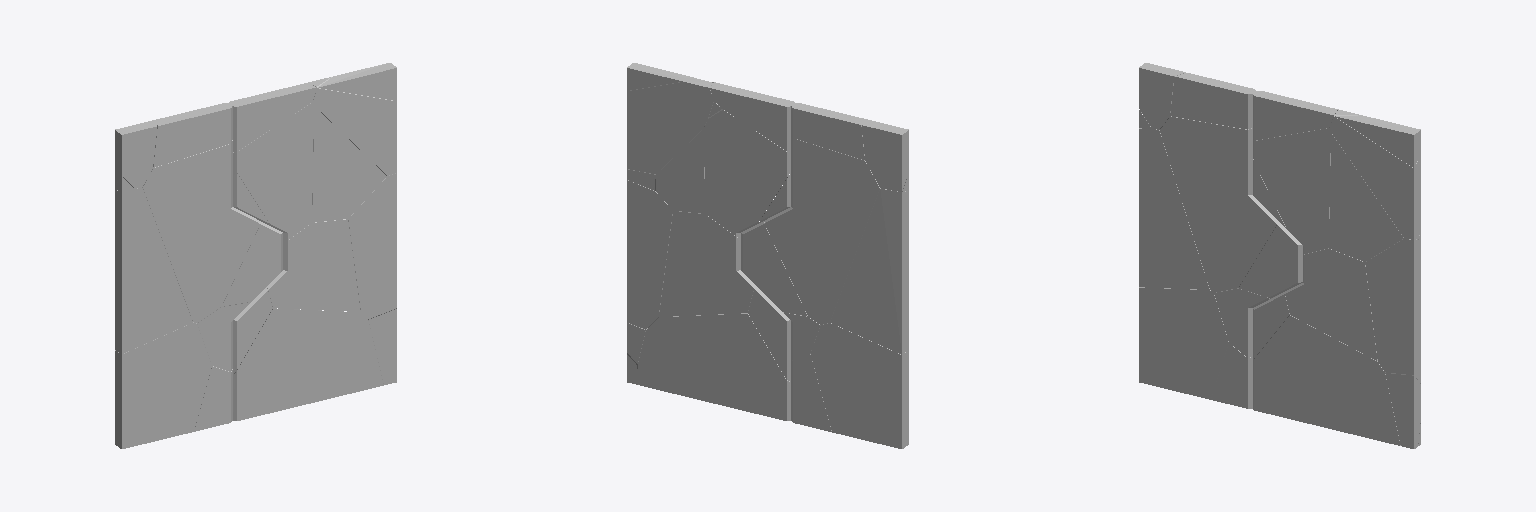
The model's file is BrokenDoor.obj.
The picture shows the model from 3 angles: view 1: azimuth 30°, elevation 25°; view 2: azimuth 150°, elevation 25°; view 3: azimuth 330°, elevation 25°; orthographic projection.
Parts seen in each view (by area): view 1: Door_Right_Teal_cell.004, DoorLeft_Teal_cell, DoorLeft_Teal_cell.008, DoorLeft_Teal_cell.004, Door_Right_Teal_cell.005, Door_Right_Teal_cell.009, Door_Right_Teal_cell, Door_Right_Teal_cell.001, Door_Right_Teal_cell.008, DoorLeft_Teal_cell.001, Door_Right_Teal_cell.007, DoorLeft_Teal_cell.005 (+7 smaller); view 2: DoorLeft_Teal_cell, Door_Right_Teal_cell.004, DoorLeft_Teal_cell.008, DoorLeft_Teal_cell.004, Door_Right_Teal_cell.005, Door_Right_Teal_cell.009, Door_Right_Teal_cell.008, Door_Right_Teal_cell, DoorLeft_Teal_cell.005, Door_Right_Teal_cell.007, DoorLeft_Teal_cell.001, Door_Right_Teal_cell.001 (+7 smaller); view 3: DoorLeft_Teal_cell, Door_Right_Teal_cell.004, DoorLeft_Teal_cell.008, DoorLeft_Teal_cell.004, Door_Right_Teal_cell.005, Door_Right_Teal_cell.009, Door_Right_Teal_cell, Door_Right_Teal_cell.001, Door_Right_Teal_cell.008, DoorLeft_Teal_cell.001, DoorLeft_Teal_cell.005, Door_Right_Teal_cell.007 (+7 smaller).
Part boxes in pixels (x1,y1,x2,y2): Door_Right_Teal_cell.004: (233, 308, 383, 420); DoorLeft_Teal_cell: (142, 140, 259, 322); DoorLeft_Teal_cell.008: (115, 322, 211, 448); DoorLeft_Teal_cell.004: (115, 188, 192, 353); Door_Right_Teal_cell.005: (233, 102, 313, 240); Door_Right_Teal_cell.009: (267, 219, 360, 311); Door_Right_Teal_cell: (348, 173, 396, 319); Door_Right_Teal_cell.001: (312, 106, 386, 222); Door_Right_Teal_cell.008: (308, 77, 396, 175); DoorLeft_Teal_cell.001: (153, 103, 232, 167); Door_Right_Teal_cell.007: (229, 83, 316, 151); DoorLeft_Teal_cell.005: (222, 221, 282, 306); DoorLeft_Teal_cell: (764, 137, 879, 324); Door_Right_Teal_cell.004: (638, 313, 790, 420); DoorLeft_Teal_cell.008: (811, 323, 908, 448); DoorLeft_Teal_cell.004: (830, 188, 908, 354); Door_Right_Teal_cell.005: (704, 103, 790, 238); Door_Right_Teal_cell.009: (659, 211, 755, 316); Door_Right_Teal_cell.008: (627, 82, 713, 174); Door_Right_Teal_cell: (627, 180, 672, 329); DoorLeft_Teal_cell.005: (741, 221, 807, 316); Door_Right_Teal_cell.007: (710, 82, 794, 151); DoorLeft_Teal_cell.001: (791, 103, 871, 159); Door_Right_Teal_cell.001: (655, 122, 706, 213); DoorLeft_Teal_cell: (1160, 116, 1278, 292); Door_Right_Teal_cell.004: (1253, 315, 1400, 445); DoorLeft_Teal_cell.008: (1139, 287, 1228, 399); DoorLeft_Teal_cell.004: (1139, 126, 1209, 289); Door_Right_Teal_cell.005: (1253, 128, 1332, 253); Door_Right_Teal_cell.009: (1285, 248, 1377, 360); Door_Right_Teal_cell: (1365, 239, 1420, 383); Door_Right_Teal_cell.001: (1329, 133, 1403, 261); Door_Right_Teal_cell.008: (1330, 109, 1420, 239); DoorLeft_Teal_cell.001: (1170, 73, 1255, 129); DoorLeft_Teal_cell.005: (1239, 222, 1302, 298); Door_Right_Teal_cell.007: (1253, 91, 1337, 140).
Size of the model in its own units: 2.2 by 2.4 by 0.1.